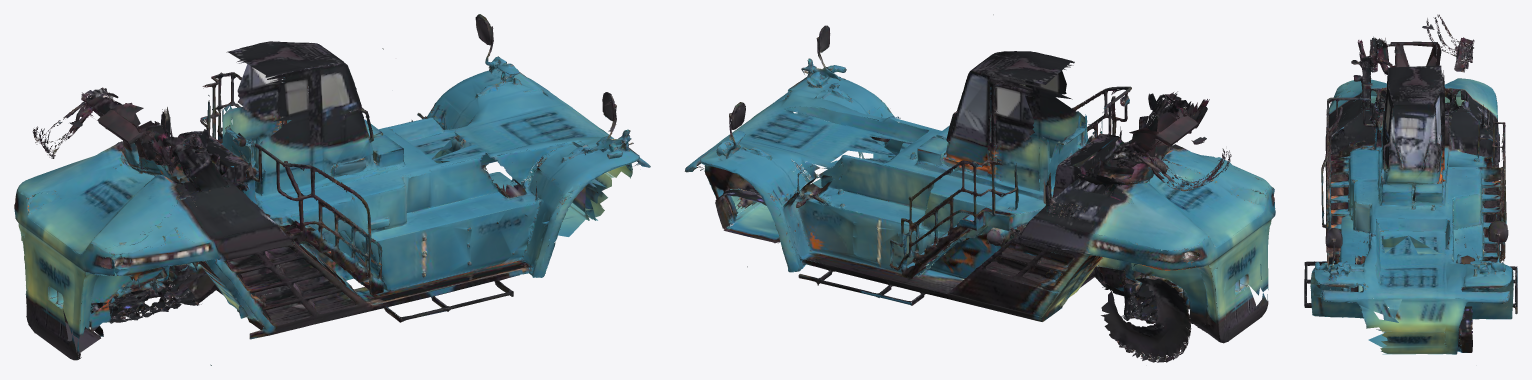
File: stacker.glb
3 views of the same model, side by side, from view 1: azimuth 30°, elevation 25°; view 2: azimuth 150°, elevation 25°; view 3: azimuth 270°, elevation 25° (orthographic). The views are drawn at different scales.
Visible parts, largest first — view 1: STK_BODY; view 2: STK_BODY; view 3: STK_BODY.
Boxes of the visible parts, bbox=[...] form: STK_BODY: bbox=[14, 14, 650, 365]; STK_BODY: bbox=[684, 14, 1275, 362]; STK_BODY: bbox=[1304, 14, 1517, 354].
Bounding box in the file's own units: 7.62 × 3.53 × 3.39.
Materials: 1 (1 with a texture image).
